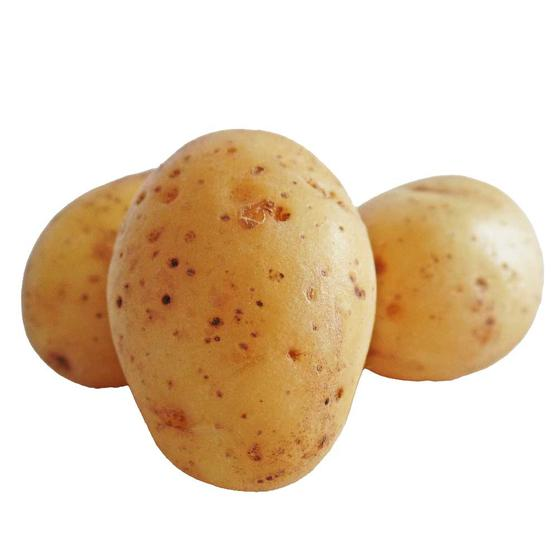potato: (104, 124, 382, 498)
